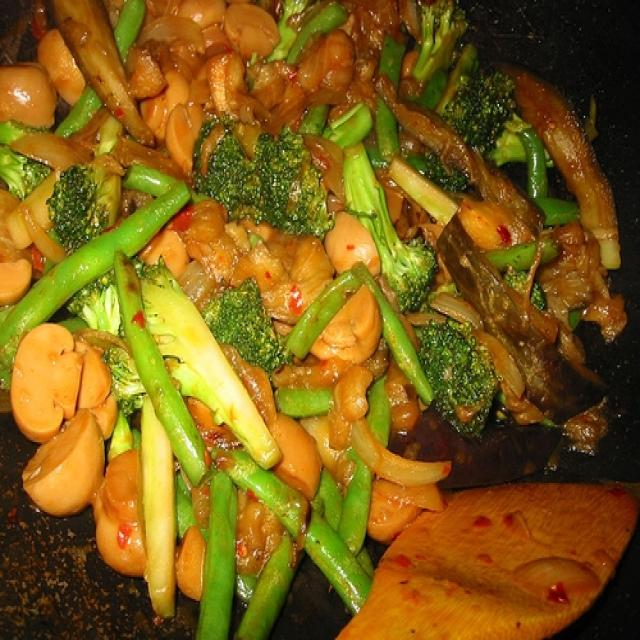蔬菜料理: (9, 24, 623, 621)
